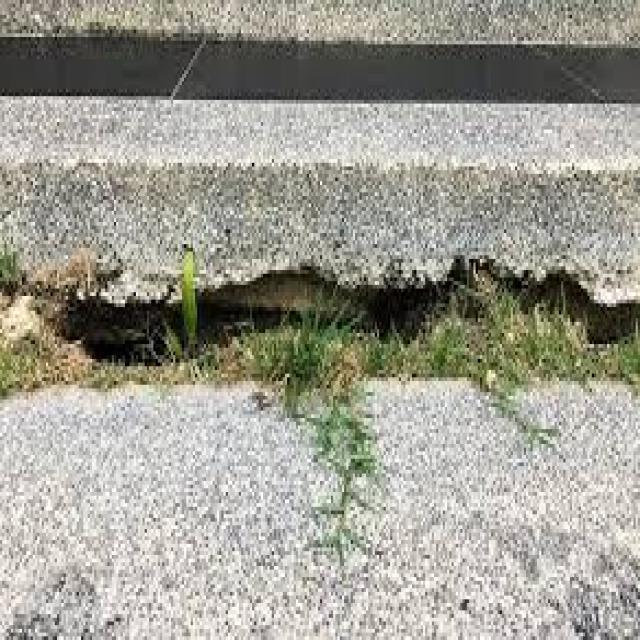curb: (1, 105, 639, 382)
